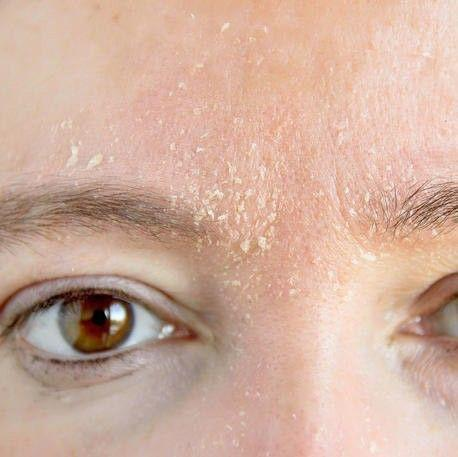Dry-Skin: (39, 10, 458, 457)
